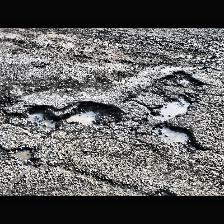pothole: (61, 99, 123, 129), (150, 122, 202, 152), (145, 94, 193, 120), (23, 103, 61, 133), (161, 70, 205, 89), (9, 145, 38, 165), (149, 188, 178, 196)
